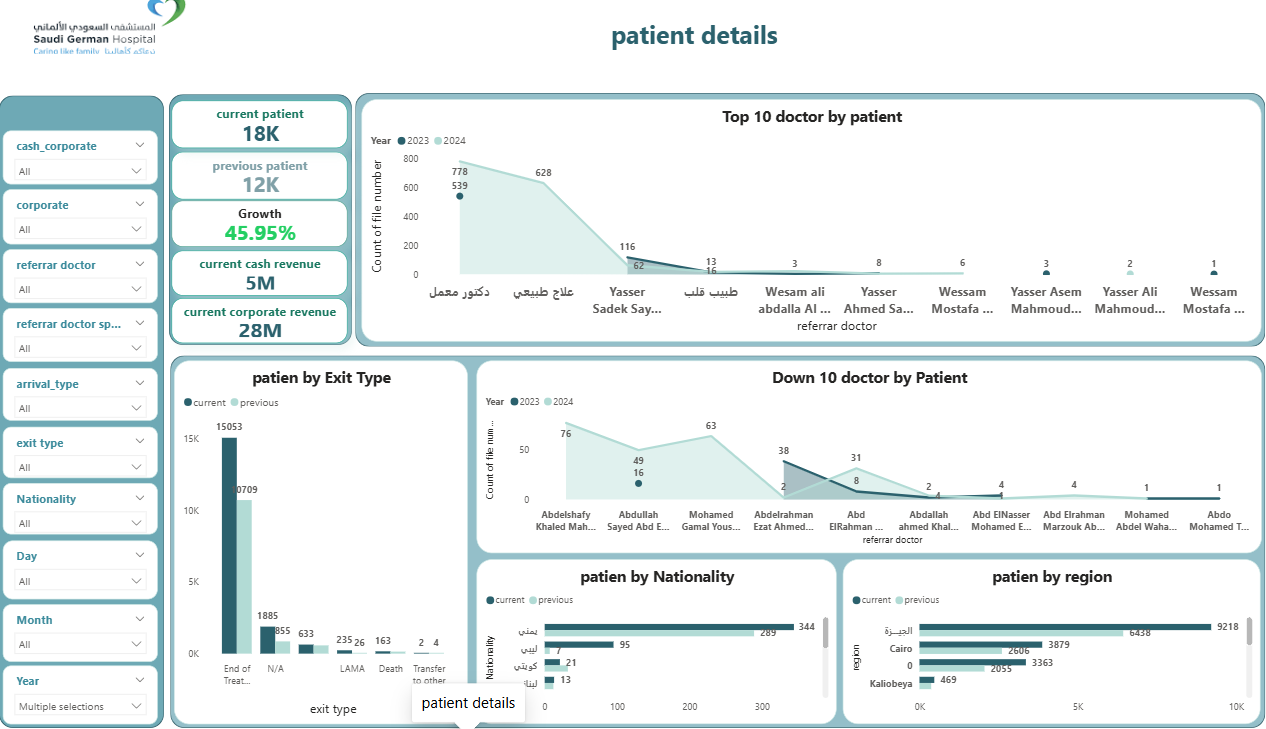

What the dashboard file says about the page in this screenshot:
{"tool":"powerbi","page":{"name":"patient details","canvas":[1637,950],"ordinal":3},"visuals":[{"type":"shape","box":[221,467.9,1413.4,480.8],"z":0},{"type":"shape","box":[459.8,129.1,1174.6,327.5],"z":1000},{"type":"shape","box":[0,132.3,213,816.4],"z":2000},{"type":"slicer","fields":{"Values":["Table1.Day"]},"box":[4.8,706.7,200.1,75.8],"z":3000},{"type":"slicer","fields":{"Values":["Table1.cash_corporate"]},"box":[4.8,177.5,200.1,69.4],"z":4000},{"type":"slicer","fields":{"Values":["Table1.corporate"]},"box":[4.8,253.3,200.1,71],"z":5000},{"type":"slicer","fields":{"Values":["Table1.arrival_type"]},"box":[4.8,484,200.1,67.8],"z":6000},{"type":"slicer","fields":{"Values":["Table1.Nationality"]},"box":[4.8,632.5,200.1,66.2],"z":7000},{"type":"slicer","fields":{"Values":["Table1.exit type"]},"box":[4.8,559.9,200.1,66.2],"z":8000},{"type":"slicer","fields":{"Values":["Table1.referrar doctor specialty"]},"box":[4.8,406.6,200.1,69.4],"z":9000},{"type":"clusteredBarChart","title":"patien by Nationality","fields":{"Y":["Table1.current","Table1.previous"],"Category":["Table1.Nationality"]},"box":[616.3,730.9,464.7,213],"z":10000},{"type":"image","box":[0,0,285.7,83.1],"z":11000},{"type":"slicer","fields":{"Values":["Table1.Month"]},"box":[4.8,789,200.1,74.2],"z":12000},{"type":"slicer","fields":{"Values":["Table1.Year"]},"box":[4.8,868,200.1,75.8],"z":13000},{"type":"slicer","fields":{"Values":["Table1.referrar doctor"]},"box":[4.8,330.8,200.1,69.4],"z":14000},{"type":"areaChart","title":"Top 10 doctor by patient","fields":{"Category":["Table1.referrar doctor"],"Series":["Table1.Year"],"Y":["CountNonNull(Table1.file number)"]},"box":[467.9,137.1,1161.7,313],"z":15000},{"type":"shape","box":[470.3,10.9,896.9,82],"z":16000},{"type":"areaChart","title":"Down 10 doctor by Patient","fields":{"Category":["Table1.referrar doctor"],"Series":["Table1.Year"],"Y":["CountNonNull(Table1.file number)"]},"box":[616.3,474.4,1013.3,248.5],"z":17000},{"type":"clusteredBarChart","title":"patien by region","fields":{"Category":["Table1.region"],"Y":["Table1.current","Table1.previous"]},"box":[1089.1,730.9,538.9,213],"z":18000},{"type":"clusteredColumnChart","title":"patien by Exit Type","fields":{"Category":["Table1.exit type"],"Y":["Table1.current","Table1.previous"]},"box":[225.4,474.4,379.2,469.5],"z":19000},{"type":"shape","box":[219.2,131.2,236.2,323.8],"z":20000},{"type":"card","title":"previous patient","fields":{"Values":["Table1.previous"]},"box":[223.1,204.5,227,61.9],"z":21000},{"type":"card","title":"current patient","fields":{"Values":["Table1.current"]},"box":[223.1,138.8,227,61.9],"z":22000},{"type":"card","title":"Growth","fields":{"Values":["Table1.Growth file"]},"box":[223.1,268.3,227,60],"z":23000},{"type":"card","title":"current cash revenue","fields":{"Values":["Table1.total- current revenue"]},"box":[223.1,332.1,227,58.2],"z":24000},{"type":"card","title":"current corporate revenue","fields":{"Values":["Table1.total- current revenue"]},"box":[223.1,394,227,58.2],"z":25000}]}

Visuals, with their boxes in screenshot pixels (x1, y1, x2, y2), scaled from the page's 1637x950 canvas onto the 1266x729 screenshot:
shape: (x1=171, y1=359, x2=1264, y2=728)
shape: (x1=356, y1=99, x2=1264, y2=350)
shape: (x1=0, y1=102, x2=165, y2=728)
slicer - Table1.Day: (x1=4, y1=542, x2=158, y2=600)
slicer - Table1.cash_corporate: (x1=4, y1=136, x2=158, y2=189)
slicer - Table1.corporate: (x1=4, y1=194, x2=158, y2=249)
slicer - Table1.arrival_type: (x1=4, y1=371, x2=158, y2=423)
slicer - Table1.Nationality: (x1=4, y1=485, x2=158, y2=536)
slicer - Table1.exit type: (x1=4, y1=430, x2=158, y2=480)
slicer - Table1.referrar doctor specialty: (x1=4, y1=312, x2=158, y2=365)
"patien by Nationality" clusteredBarChart: (x1=477, y1=561, x2=836, y2=724)
image: (x1=0, y1=0, x2=221, y2=64)
slicer - Table1.Month: (x1=4, y1=605, x2=158, y2=662)
slicer - Table1.Year: (x1=4, y1=666, x2=158, y2=724)
slicer - Table1.referrar doctor: (x1=4, y1=254, x2=158, y2=307)
"Top 10 doctor by patient" areaChart: (x1=362, y1=105, x2=1260, y2=345)
shape: (x1=364, y1=8, x2=1057, y2=71)
"Down 10 doctor by Patient" areaChart: (x1=477, y1=364, x2=1260, y2=555)
"patien by region" clusteredBarChart: (x1=842, y1=561, x2=1259, y2=724)
"patien by Exit Type" clusteredColumnChart: (x1=174, y1=364, x2=468, y2=724)
shape: (x1=170, y1=101, x2=352, y2=349)
"previous patient" card: (x1=173, y1=157, x2=348, y2=204)
"current patient" card: (x1=173, y1=107, x2=348, y2=154)
"Growth" card: (x1=173, y1=206, x2=348, y2=252)
"current cash revenue" card: (x1=173, y1=255, x2=348, y2=300)
"current corporate revenue" card: (x1=173, y1=302, x2=348, y2=347)
